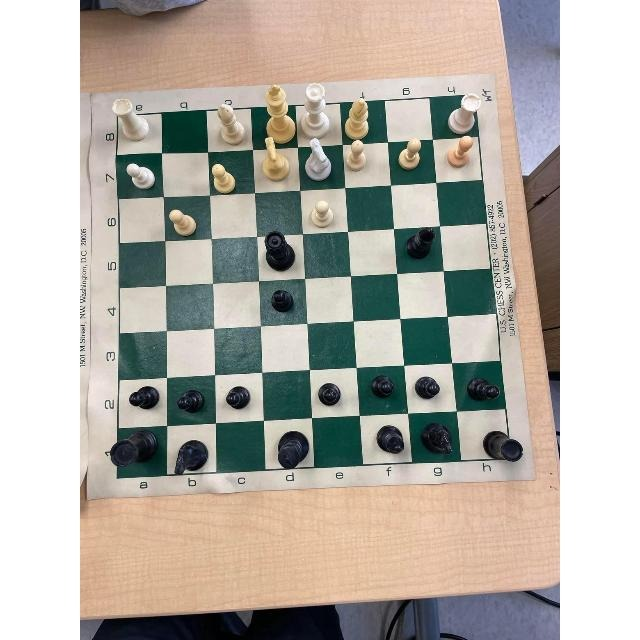black-bishop: (403, 223, 438, 264), (375, 420, 406, 461)
black-king: (275, 428, 312, 474)
black-knight: (173, 438, 211, 480), (420, 420, 456, 458)
black-pawn: (463, 372, 502, 407), (125, 381, 161, 413), (412, 371, 442, 405), (177, 385, 205, 416), (366, 374, 395, 403), (316, 379, 344, 409), (224, 383, 251, 412), (268, 287, 295, 314)
black-queen: (263, 230, 299, 274)
black-rook: (109, 427, 161, 472), (478, 426, 527, 467)
white-bishop: (214, 102, 248, 146), (343, 96, 372, 139)
white-king: (262, 84, 296, 146)
white-knight: (257, 136, 292, 184), (301, 135, 334, 183)
white-pawn: (125, 160, 159, 194), (447, 132, 473, 174), (166, 207, 198, 241), (208, 160, 237, 195), (343, 139, 371, 175), (395, 136, 423, 172), (309, 196, 336, 232)
white-queen: (301, 80, 333, 140)
white-rook: (108, 94, 154, 143), (444, 90, 484, 135)
